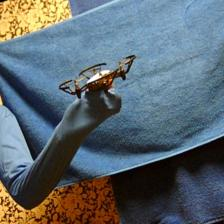drone: (58, 54, 136, 98)
